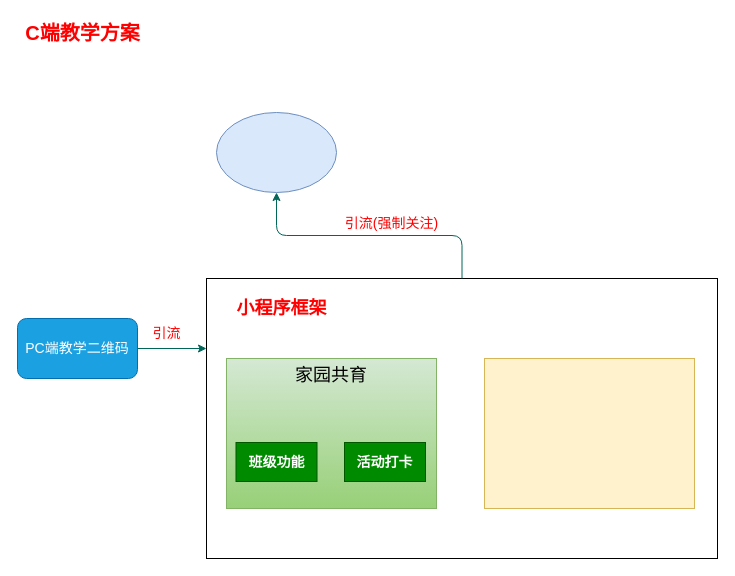
This 735x576 diagram has some shape labels left out. The shapes that lost their labels are listed below. From the top down, each one's centre as x and y in pixels, then its label:
At [276,152]: "希沃橙掌平台".
At [589,433]: "商城".
